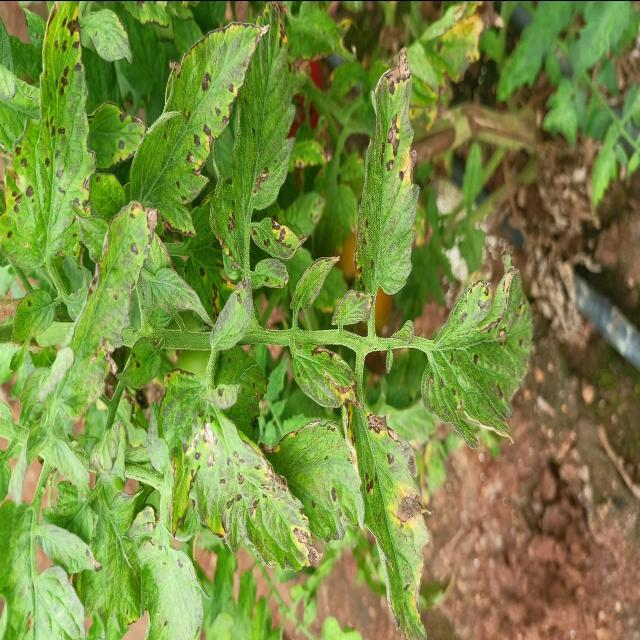Tomato mosaic virus leaf: (211, 12, 309, 292), (150, 11, 270, 237), (0, 0, 96, 276), (172, 406, 324, 578), (421, 242, 539, 452), (340, 383, 436, 640), (352, 44, 426, 300), (74, 198, 160, 380), (307, 422, 355, 546), (290, 344, 366, 412), (90, 99, 148, 174)
